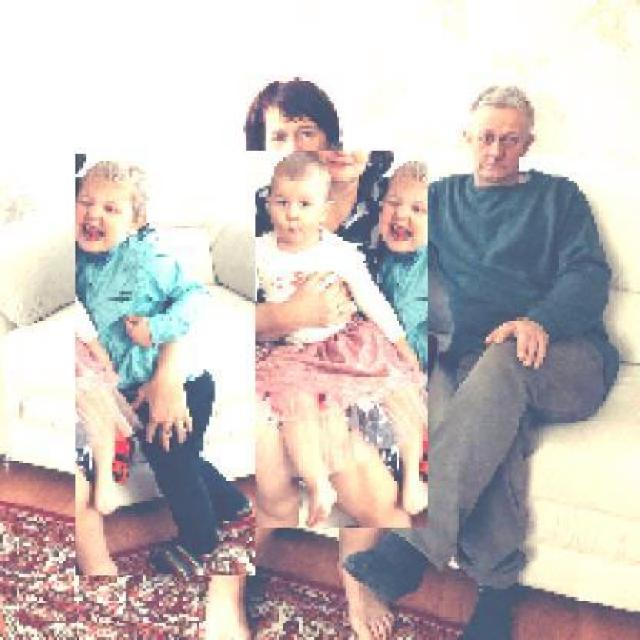child: (208, 151, 428, 529), (74, 154, 255, 577)
